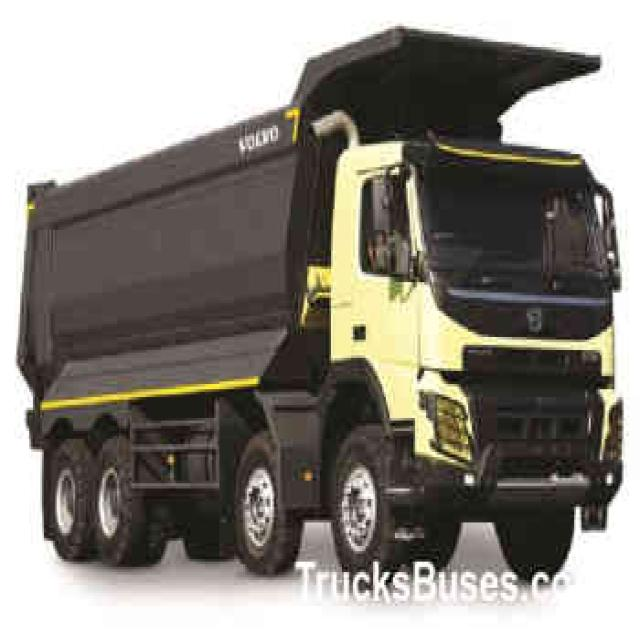dump_truck: (18, 15, 624, 602)
